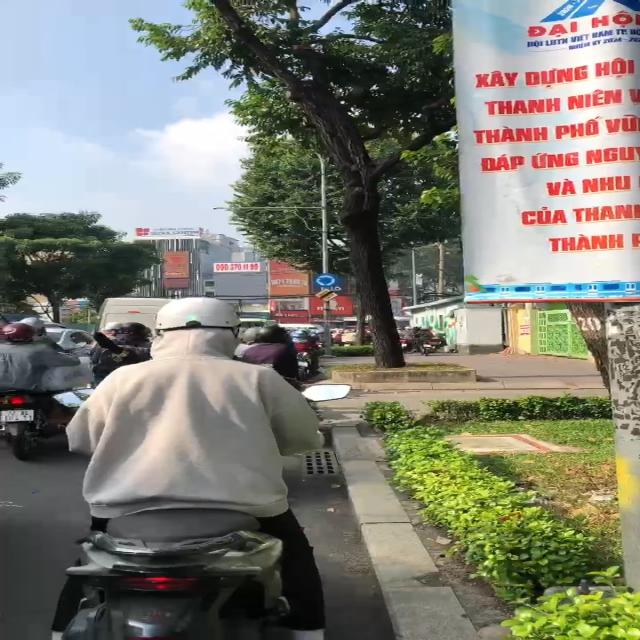Bien bao noi giao nhau chay theo vong xuyen: (310, 272, 340, 290)
